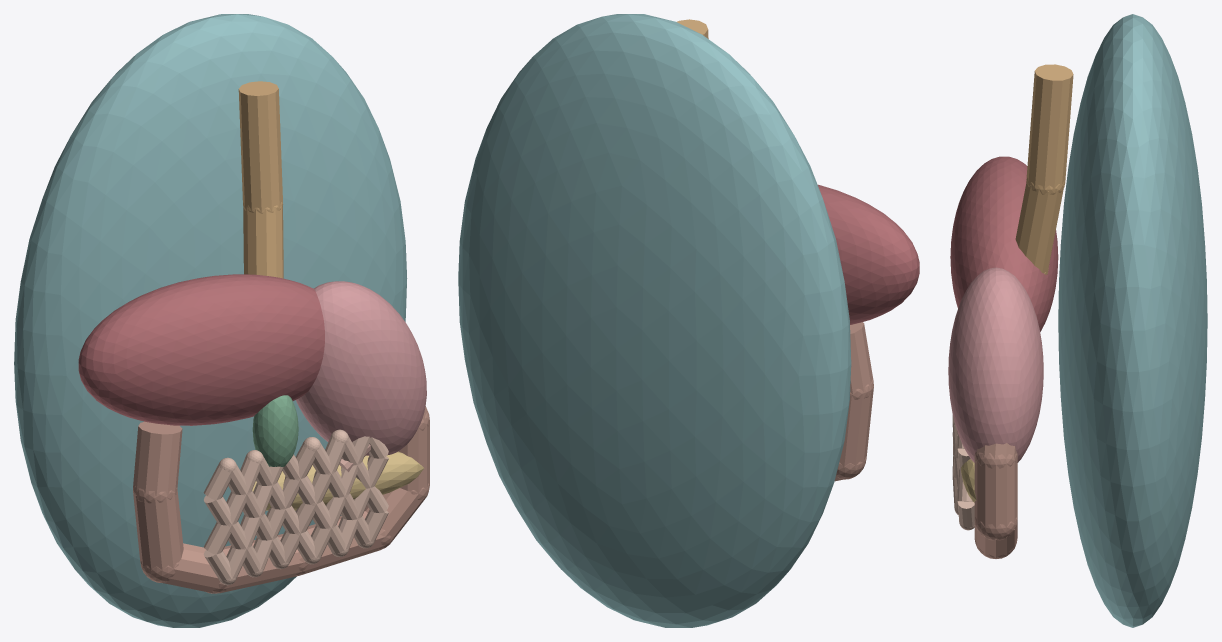
The model's file is sistem-pencernaan.glb.
3 views of the same model, side by side, from view 1: azimuth 30°, elevation 25°; view 2: azimuth 150°, elevation 25°; view 3: azimuth 270°, elevation 25° (orthographic). The views are drawn at different scales.
Visible parts, largest first — view 1: part_000, part_006, part_008, part_001, part_010, part_011, part_002, part_007, part_009, part_012, part_015, part_013 (+4 smaller); view 2: part_000, part_006, part_011, part_010; view 3: part_000, part_008, part_006, part_001, part_002, part_016, part_015, part_023, part_024, part_009, part_017, part_036.
Boxes of the visible parts, box(x1,y1,x2,y2) form: part_000: box(14, 14, 407, 627); part_006: box(78, 274, 324, 425); part_008: box(296, 281, 426, 455); part_001: box(238, 81, 282, 211); part_010: box(133, 421, 182, 495); part_011: box(133, 487, 183, 571); part_002: box(243, 206, 283, 278); part_007: box(252, 395, 298, 466); part_009: box(252, 451, 423, 510); part_012: box(163, 543, 220, 593); part_015: box(364, 488, 423, 541); part_013: box(221, 534, 303, 592); part_000: box(458, 14, 851, 627); part_006: box(818, 184, 919, 324); part_011: box(839, 387, 873, 467); part_010: box(850, 322, 873, 394); part_000: box(1058, 14, 1207, 627); part_008: box(948, 267, 1043, 462); part_006: box(950, 156, 1058, 331); part_001: box(1026, 64, 1073, 189); part_002: box(1015, 180, 1063, 274); part_016: box(974, 458, 1017, 528); part_015: box(974, 521, 1017, 557); part_023: box(974, 517, 1017, 540); part_024: box(974, 452, 1017, 468); part_009: box(961, 459, 976, 502); part_017: box(976, 443, 1017, 458); part_036: box(957, 501, 974, 528).
Bounding box in the file's own units: 1.05 × 1.56 × 0.625.
